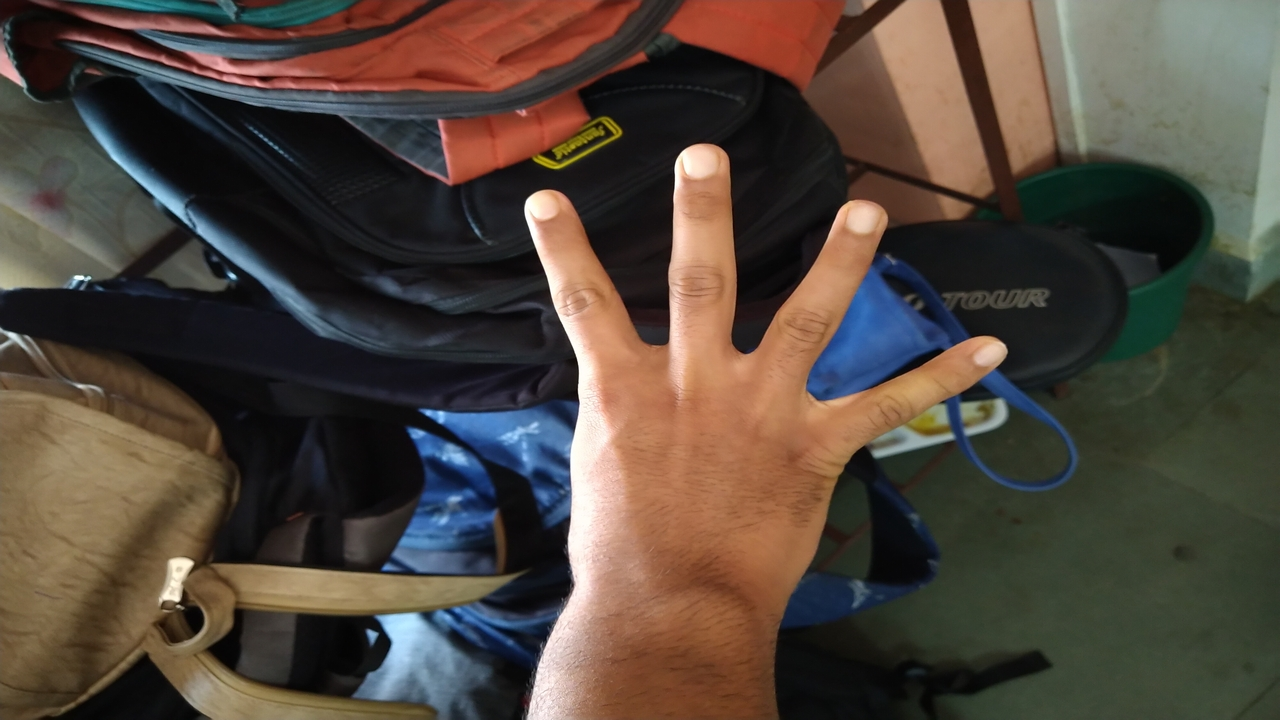fingertip: (826, 188, 904, 252), (518, 180, 584, 242), (668, 138, 728, 202), (960, 328, 1016, 375)
